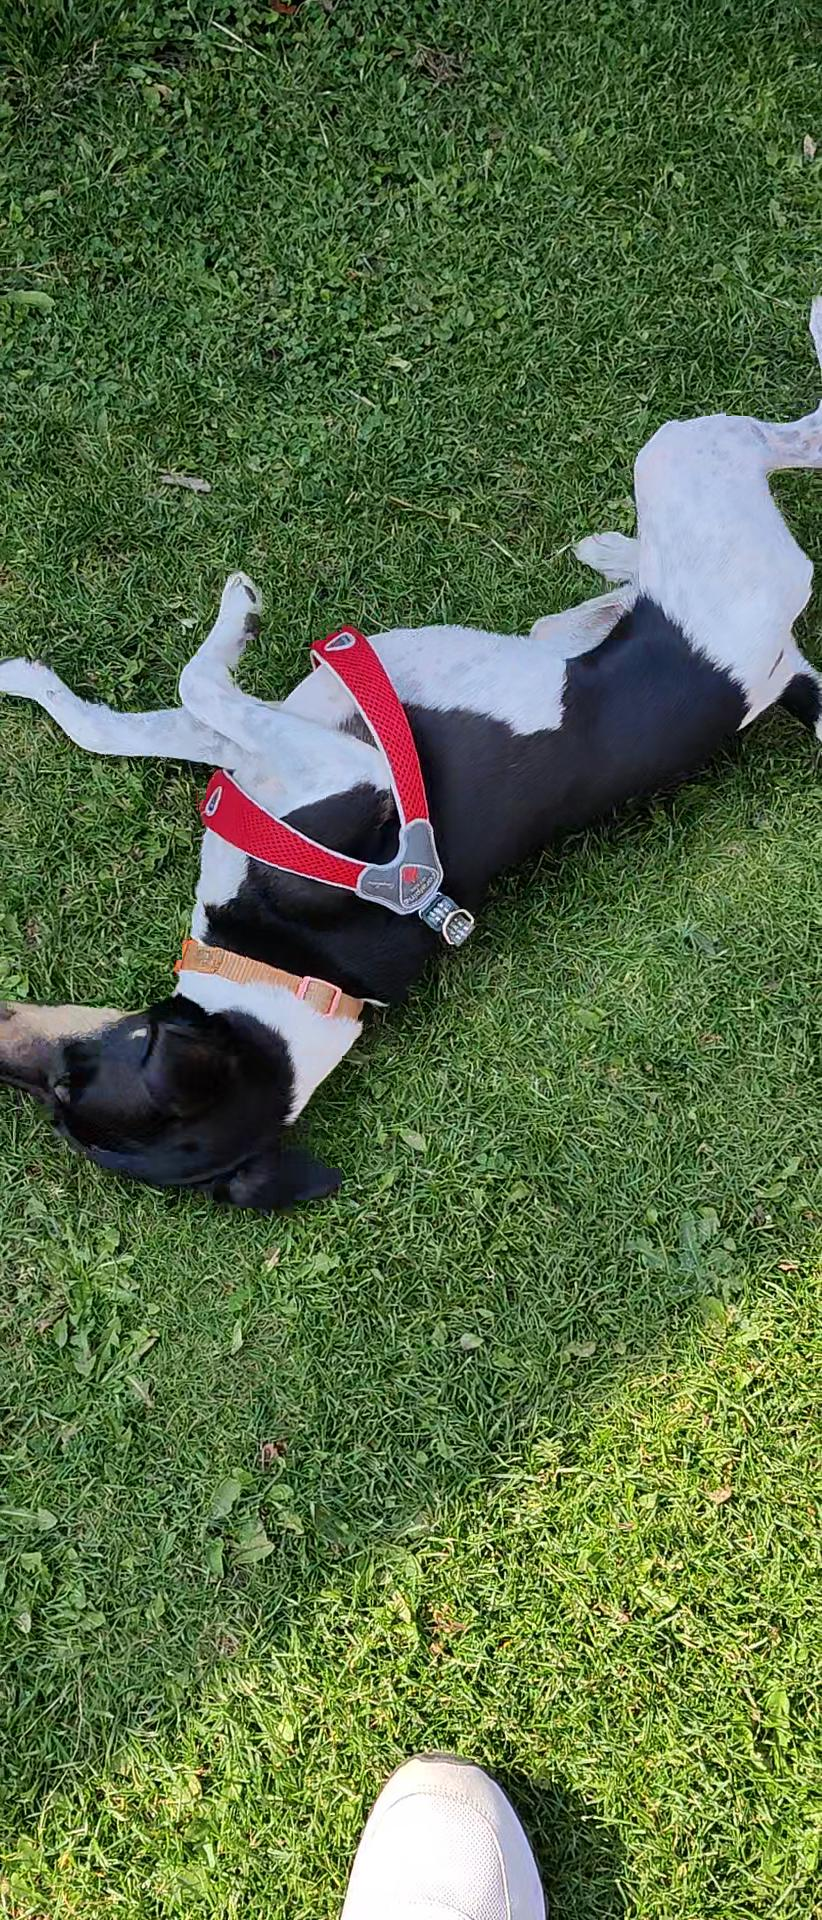Dog: (0, 293, 821, 1222)
